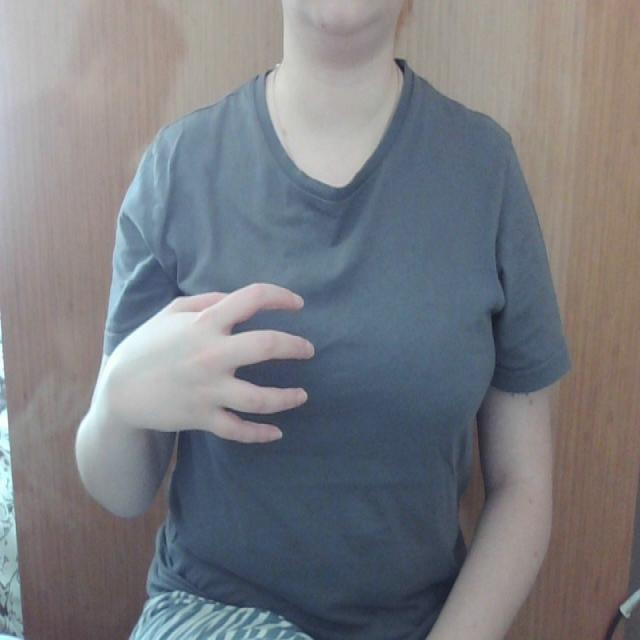Anne: (97, 268, 328, 446)
